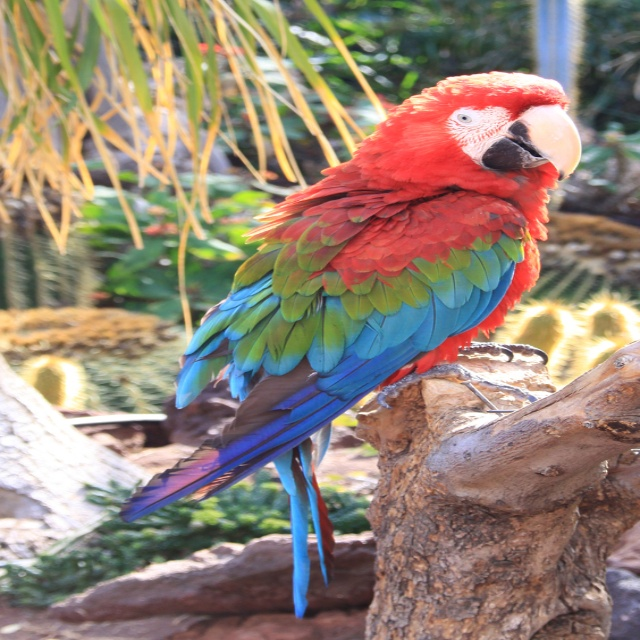Parrot: (114, 72, 586, 622)
